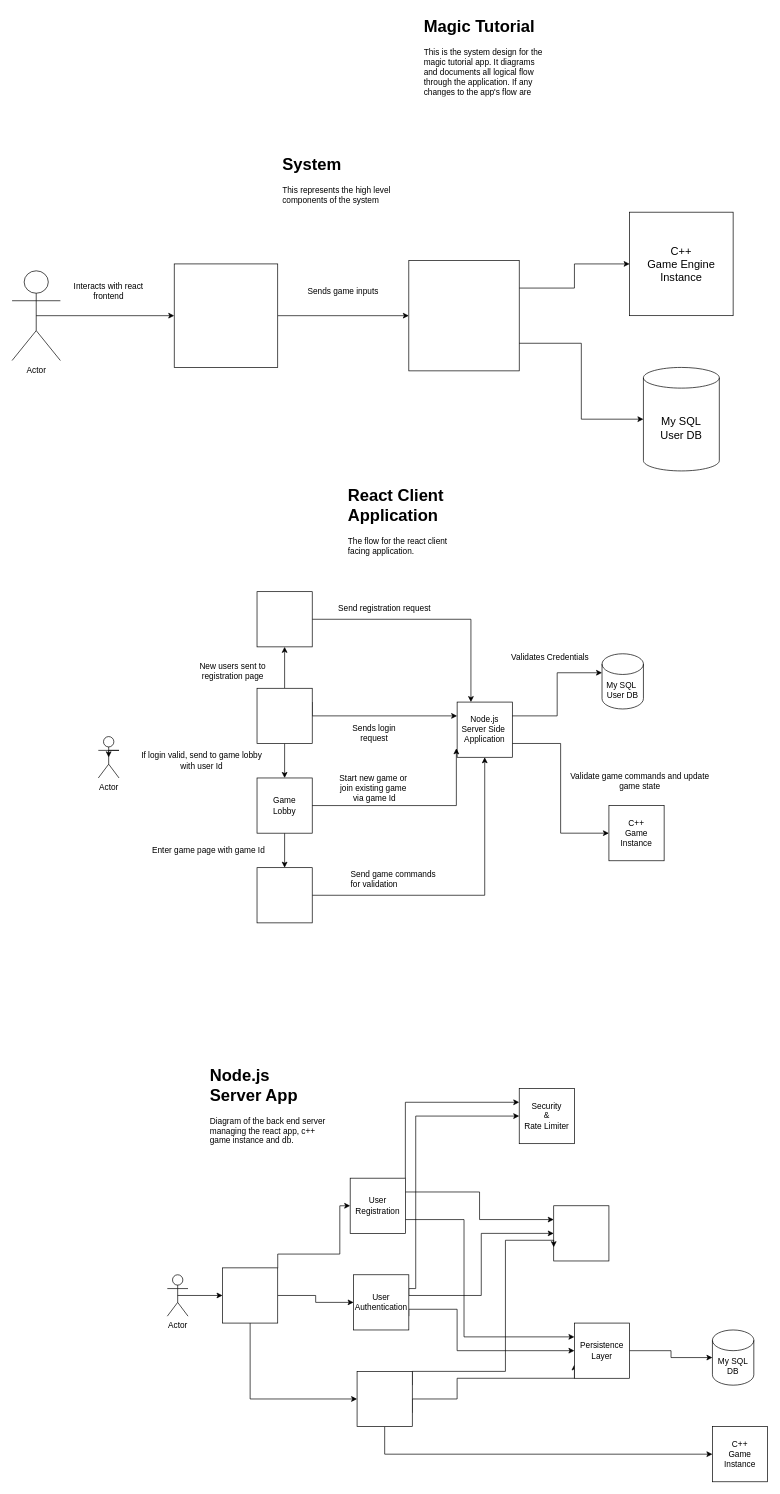
Image size: 780x1494. Some labels were removed from this diagram. The shapes that lost their labels are listed below. From the top down, each one's box as (x1, y1, x2, y2) in pixels, then its label:
(174, 263, 278, 367): React Client Application
(408, 260, 519, 371): Node JS Server Side Application
(256, 591, 312, 647): Registration Page
(256, 688, 312, 743): Login Page
(256, 867, 312, 923): Magic Tutorial Page
(553, 1205, 609, 1261): Authorization
(222, 1267, 278, 1323): React Fronted App
(356, 1371, 412, 1427): Game Instance Manager
